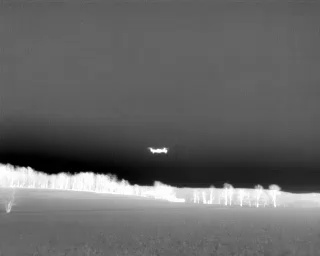DRONE: (144, 141, 172, 160)
